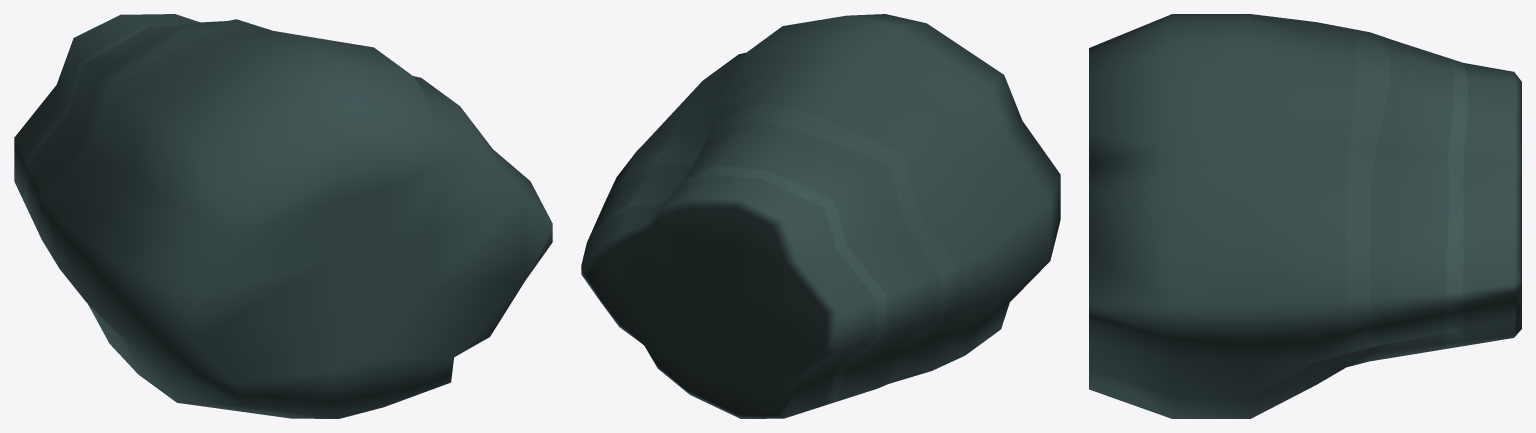
The model's file is AlienPlateuLarge.001.glb.
3 renders of one model, left to right at view 1: azimuth 30°, elevation 25°; view 2: azimuth 150°, elevation 25°; view 3: azimuth 270°, elevation 25°, orthographic. The views are drawn at different scales.
Visible parts, largest first — view 1: AlienPlateuLarge.001; view 2: AlienPlateuLarge.001; view 3: AlienPlateuLarge.001.
Boxes of the visible parts, x1,y1,x2,y2 form: AlienPlateuLarge.001: [14, 14, 552, 418]; AlienPlateuLarge.001: [581, 14, 1060, 418]; AlienPlateuLarge.001: [1089, 14, 1521, 418].
Bounding box in the file's own units: 3138 × 2525 × 2857.
